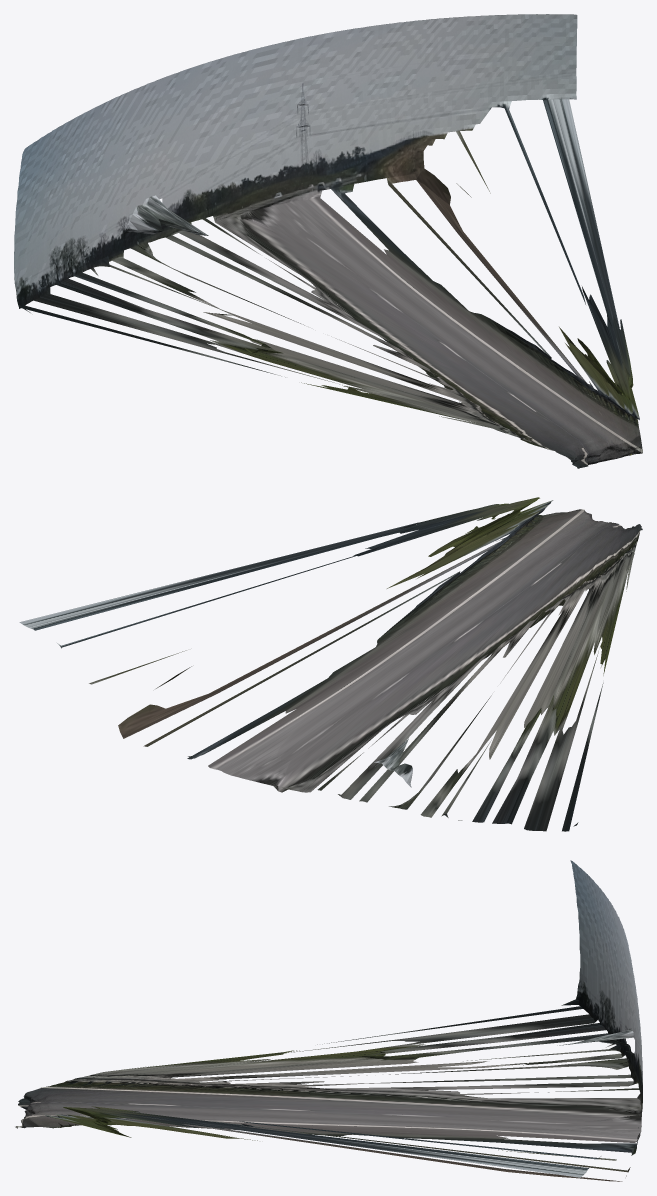
3 renders of one model, top to bottom at view 1: azimuth 30°, elevation 25°; view 2: azimuth 150°, elevation 25°; view 3: azimuth 270°, elevation 25°, orthographic. The views are drawn at different scales.
Visible parts, largest first — view 1: defaultobject; view 2: defaultobject; view 3: defaultobject.
Boxes of the visible parts, <box> form: defaultobject: <box>14,14,642,468</box>; defaultobject: <box>19,497,642,831</box>; defaultobject: <box>15,860,642,1181</box>.
Size of the model in its own units: 41.11 by 12.31 by 44.79.
Materials: 1 (1 with a texture image).
